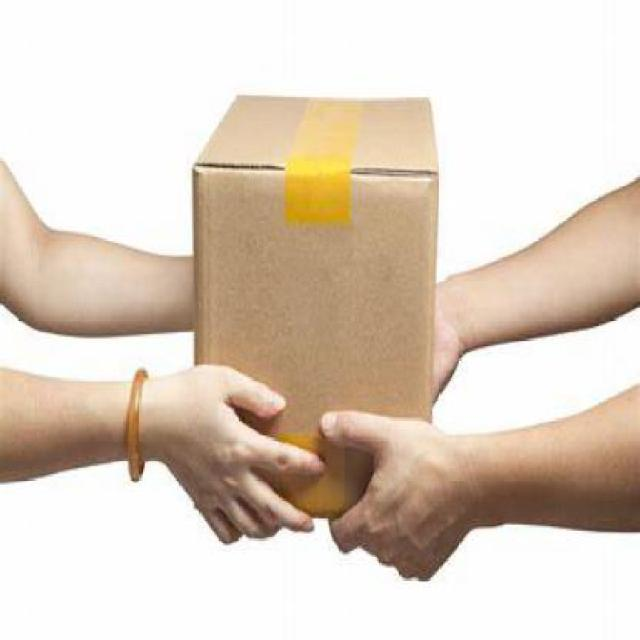cardboxes: (188, 91, 442, 537)
